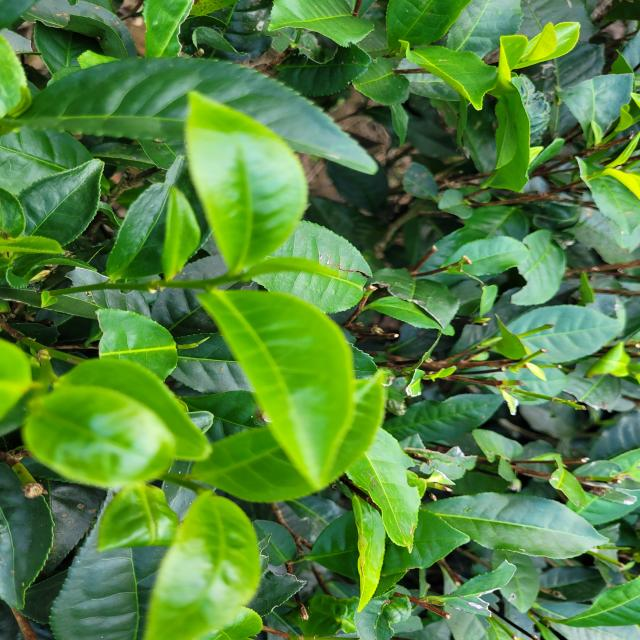Catagory A(1-2 days): (161, 73, 317, 283)
